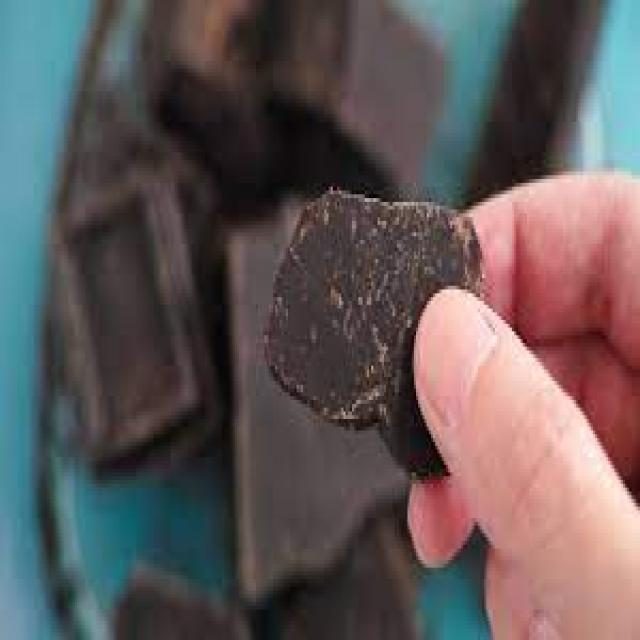Chocolate: (54, 0, 448, 640), (264, 192, 487, 484)
